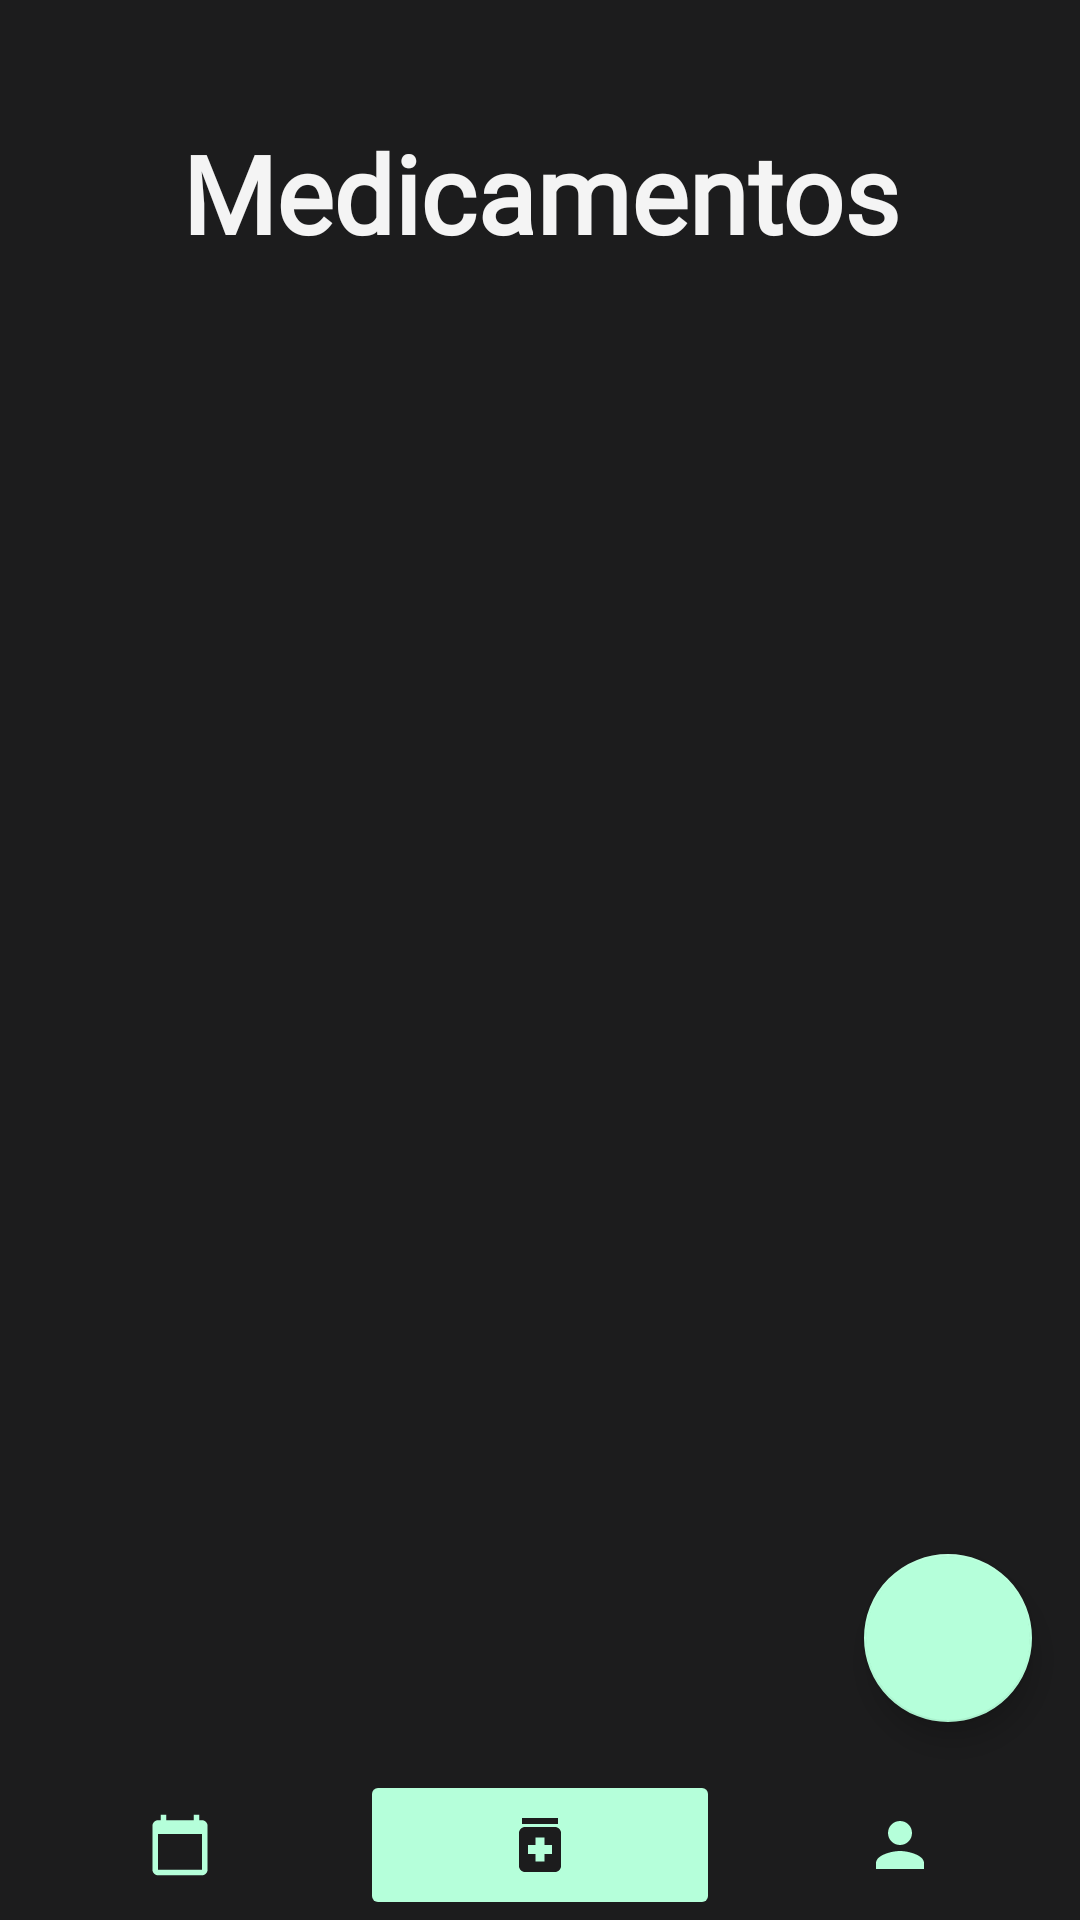

Icons on this 1080*1920 Android screen, each with the point to tap as (x=x, y=y):
Citas Médicas: (x=180, y=1845)
Medicamentos: (x=540, y=1845)
Ver perfil: (x=900, y=1845)
